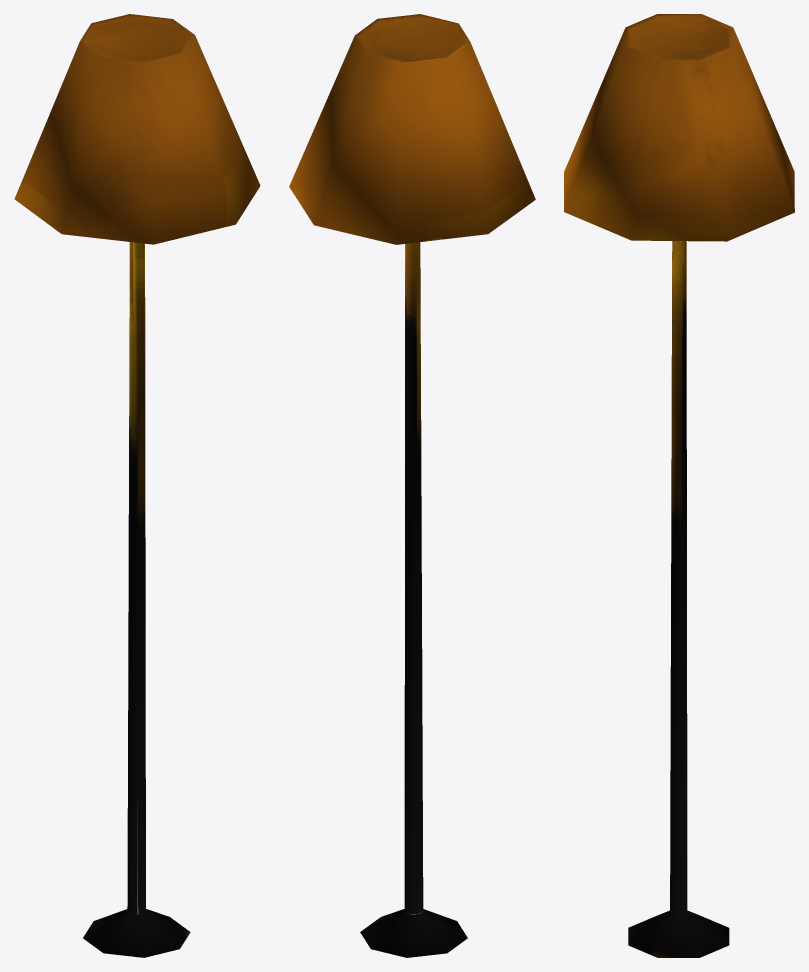
Rendered from lampara.obj.
3 renders of one model, left to right at view 1: azimuth 30°, elevation 25°; view 2: azimuth 150°, elevation 25°; view 3: azimuth 270°, elevation 25°, orthographic.
Parts seen in each view (by area): view 1: Cuerpo_lámpara.001_Cone.002_None; view 2: Cuerpo_lámpara.001_Cone.002_None; view 3: Cuerpo_lámpara.001_Cone.002_None.
Part boxes in pixels (x1,y1,x2,y2): Cuerpo_lámpara.001_Cone.002_None: (14, 14, 260, 957); Cuerpo_lámpara.001_Cone.002_None: (289, 14, 535, 957); Cuerpo_lámpara.001_Cone.002_None: (564, 14, 794, 957).
Bounding box in the file's own units: 0.6305 × 2.71 × 0.6301.
1 material, 1 textured.
